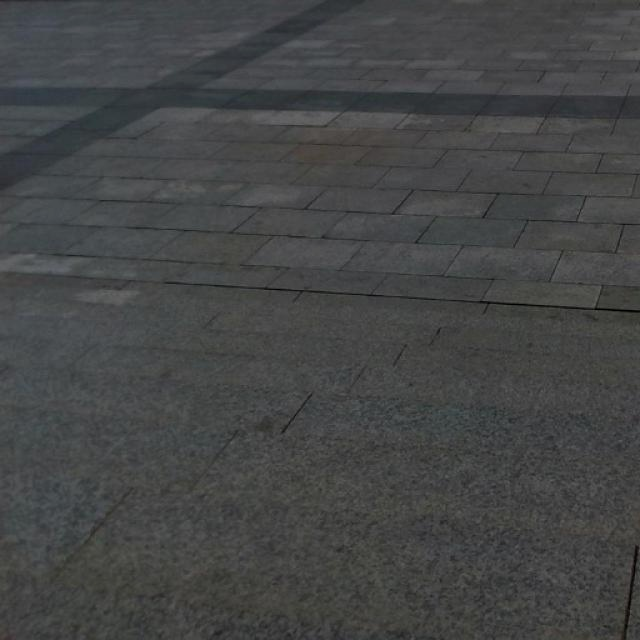stair: (0, 320, 634, 640)
